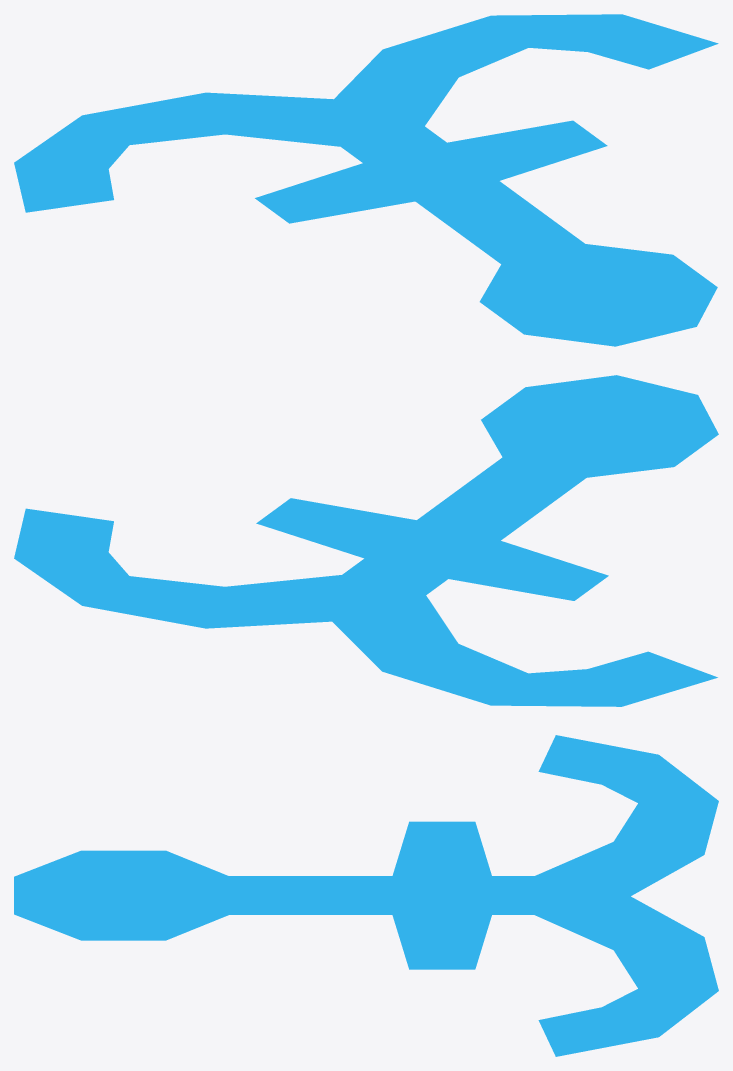
File: hieroglyph_016.glb
The picture shows the model from 3 angles, top to bottom: view 1: azimuth 30°, elevation 25°; view 2: azimuth 150°, elevation 25°; view 3: azimuth 270°, elevation 25°; orthographic projection. The views are drawn at different scales.
Parts seen in each view (by area): view 1: hieroglyph_016; view 2: hieroglyph_016; view 3: hieroglyph_016.
Boxes of the visible parts, x1,y1,x2,y2 form: hieroglyph_016: [14, 14, 718, 346]; hieroglyph_016: [14, 375, 718, 706]; hieroglyph_016: [14, 735, 718, 1056].
Bounding box in the file's own units: 0.6024 × 0 × 0.5574.
Materials: 1 (1 with a texture image).
